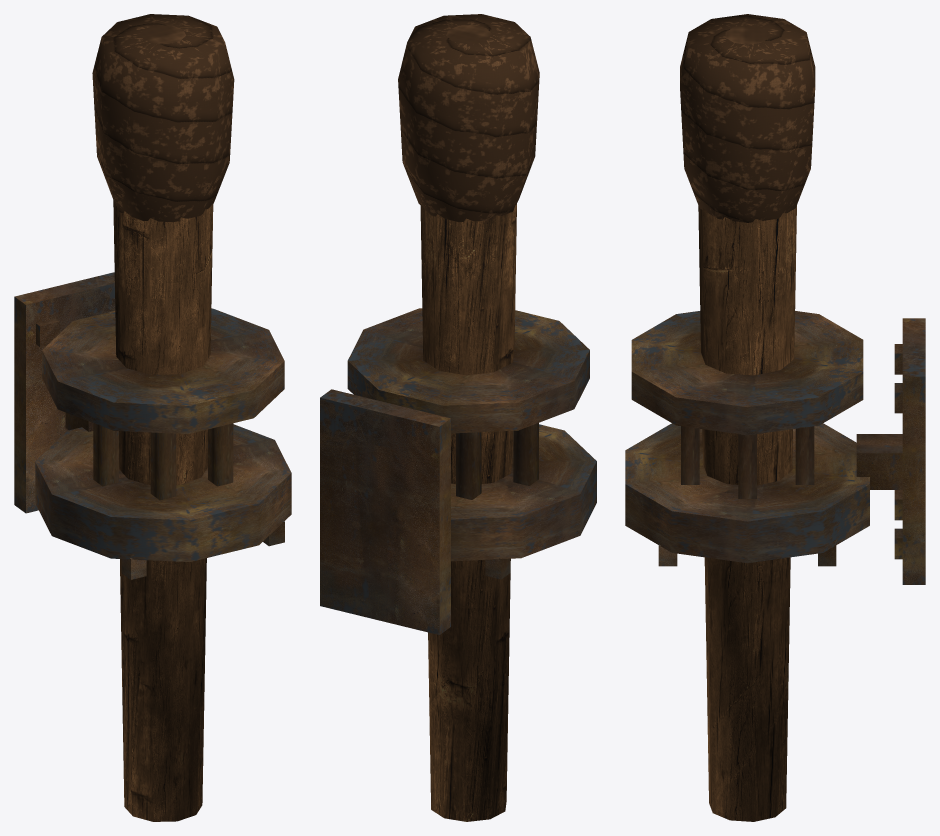
The model's file is mm6_deco_torch_unlit.glb.
3 renders of one model, left to right at view 1: azimuth 30°, elevation 25°; view 2: azimuth 150°, elevation 25°; view 3: azimuth 270°, elevation 25°, orthographic.
Parts seen in each view (by area): view 1: TorchUnlit; view 2: TorchUnlit; view 3: TorchUnlit.
Boxes of the visible parts, box(x1,y1,x2,y2) form: TorchUnlit: box(14, 14, 291, 821); TorchUnlit: box(320, 14, 596, 821); TorchUnlit: box(625, 14, 925, 821).
Size of the model in its own units: 0.2742 by 0.9058 by 0.3201.
3 materials, 3 textured.
